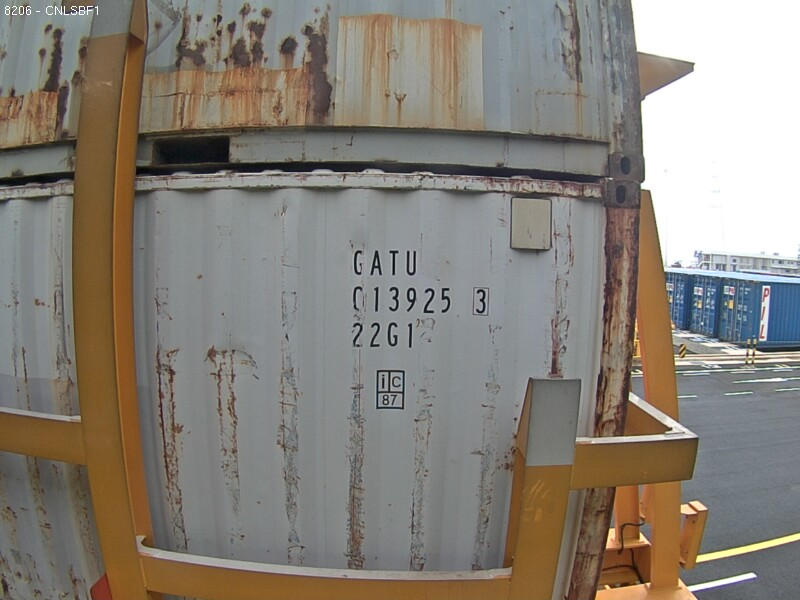container_no_door: (149, 156, 638, 561)
